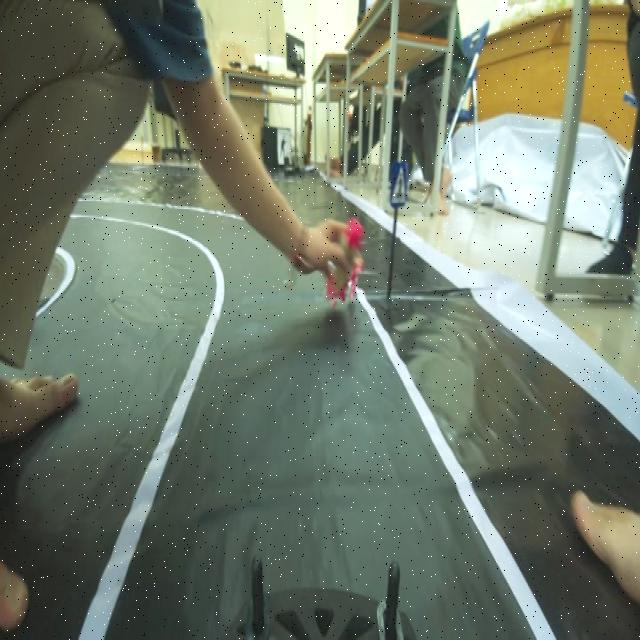crosswalk: (384, 159, 413, 213)
